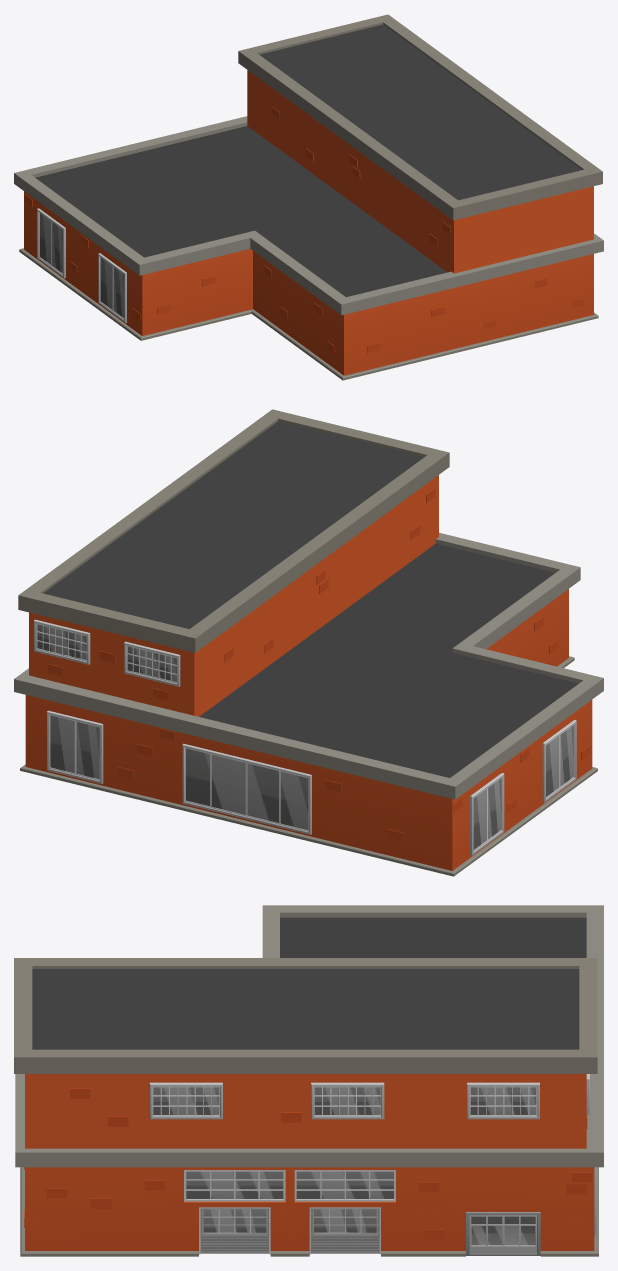
The model's file is Building_22_1_B.glb.
3 views of the same model, one above another, from view 1: azimuth 30°, elevation 25°; view 2: azimuth 150°, elevation 25°; view 3: azimuth 270°, elevation 25° (orthographic). The views are drawn at different scales.
Parts seen in each view (by area): view 1: Building_22_1_B; view 2: Building_22_1_B; view 3: Building_22_1_B.
Part boxes in pixels (bbox=[...]): Building_22_1_B: bbox=[14, 14, 603, 380]; Building_22_1_B: bbox=[14, 409, 603, 876]; Building_22_1_B: bbox=[14, 905, 603, 1256].
Bounding box in the file's own units: 31.08 × 11.75 × 31.32.
3 materials, 3 textured.
